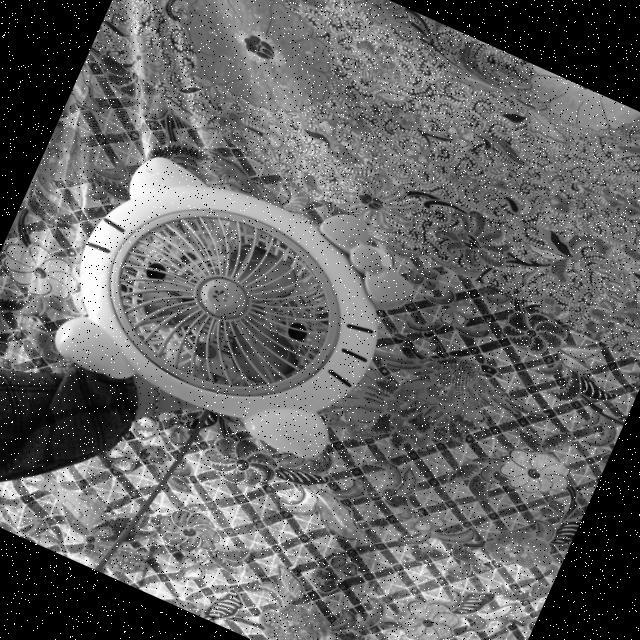fan: (33, 138, 413, 476)
